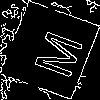M: (25, 25, 84, 81)
